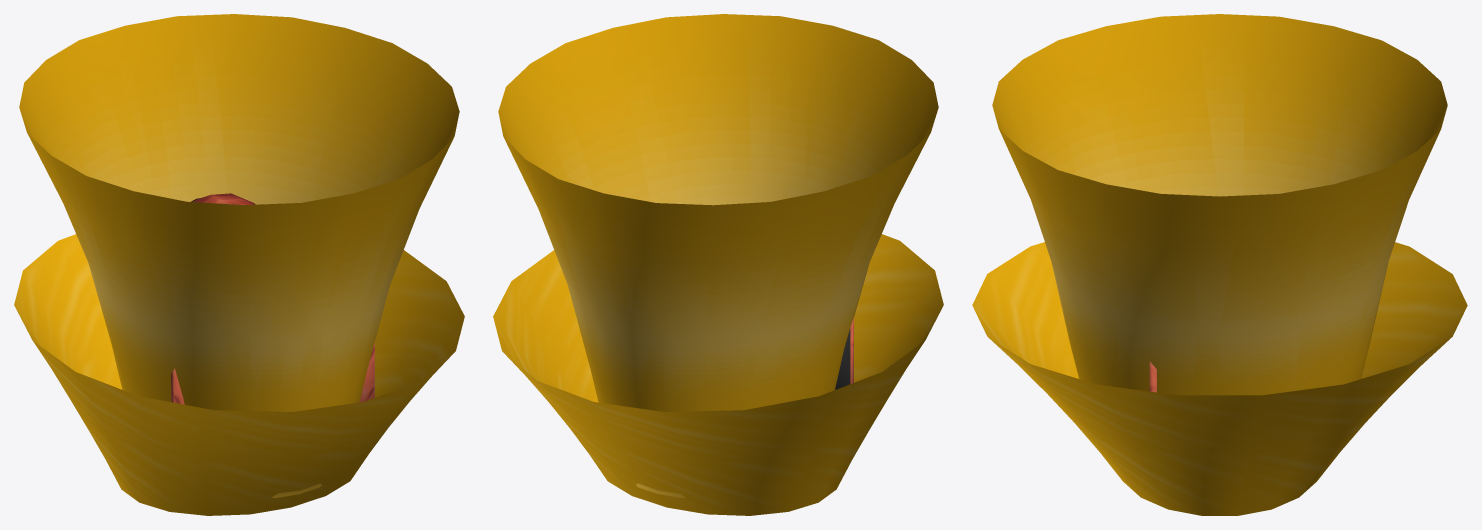
File: Granite Idol.fbx
3 renders of one model, left to right at view 1: azimuth 30°, elevation 25°; view 2: azimuth 150°, elevation 25°; view 3: azimuth 270°, elevation 25°, orthographic.
Visible parts, largest first — view 1: Top Effect, Bottom Effect, Body; view 2: Top Effect, Bottom Effect, Body; view 3: Top Effect, Bottom Effect.
Part boxes in pixels (<box>): Top Effect: <box>19,14,459,497</box>; Bottom Effect: <box>14,234,464,515</box>; Body: <box>171,193,374,404</box>; Top Effect: <box>498,14,938,497</box>; Bottom Effect: <box>493,234,943,515</box>; Body: <box>835,317,853,389</box>; Top Effect: <box>992,14,1447,395</box>; Bottom Effect: <box>972,242,1467,515</box>.
Bounding box in the file's own units: 1671 × 1532 × 1916.
3 materials, 3 textured.
